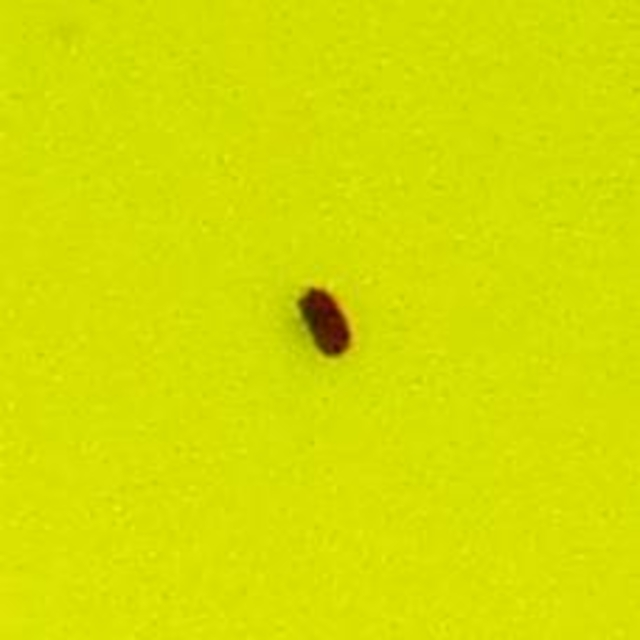Coleoptera: (281, 276, 359, 364)
